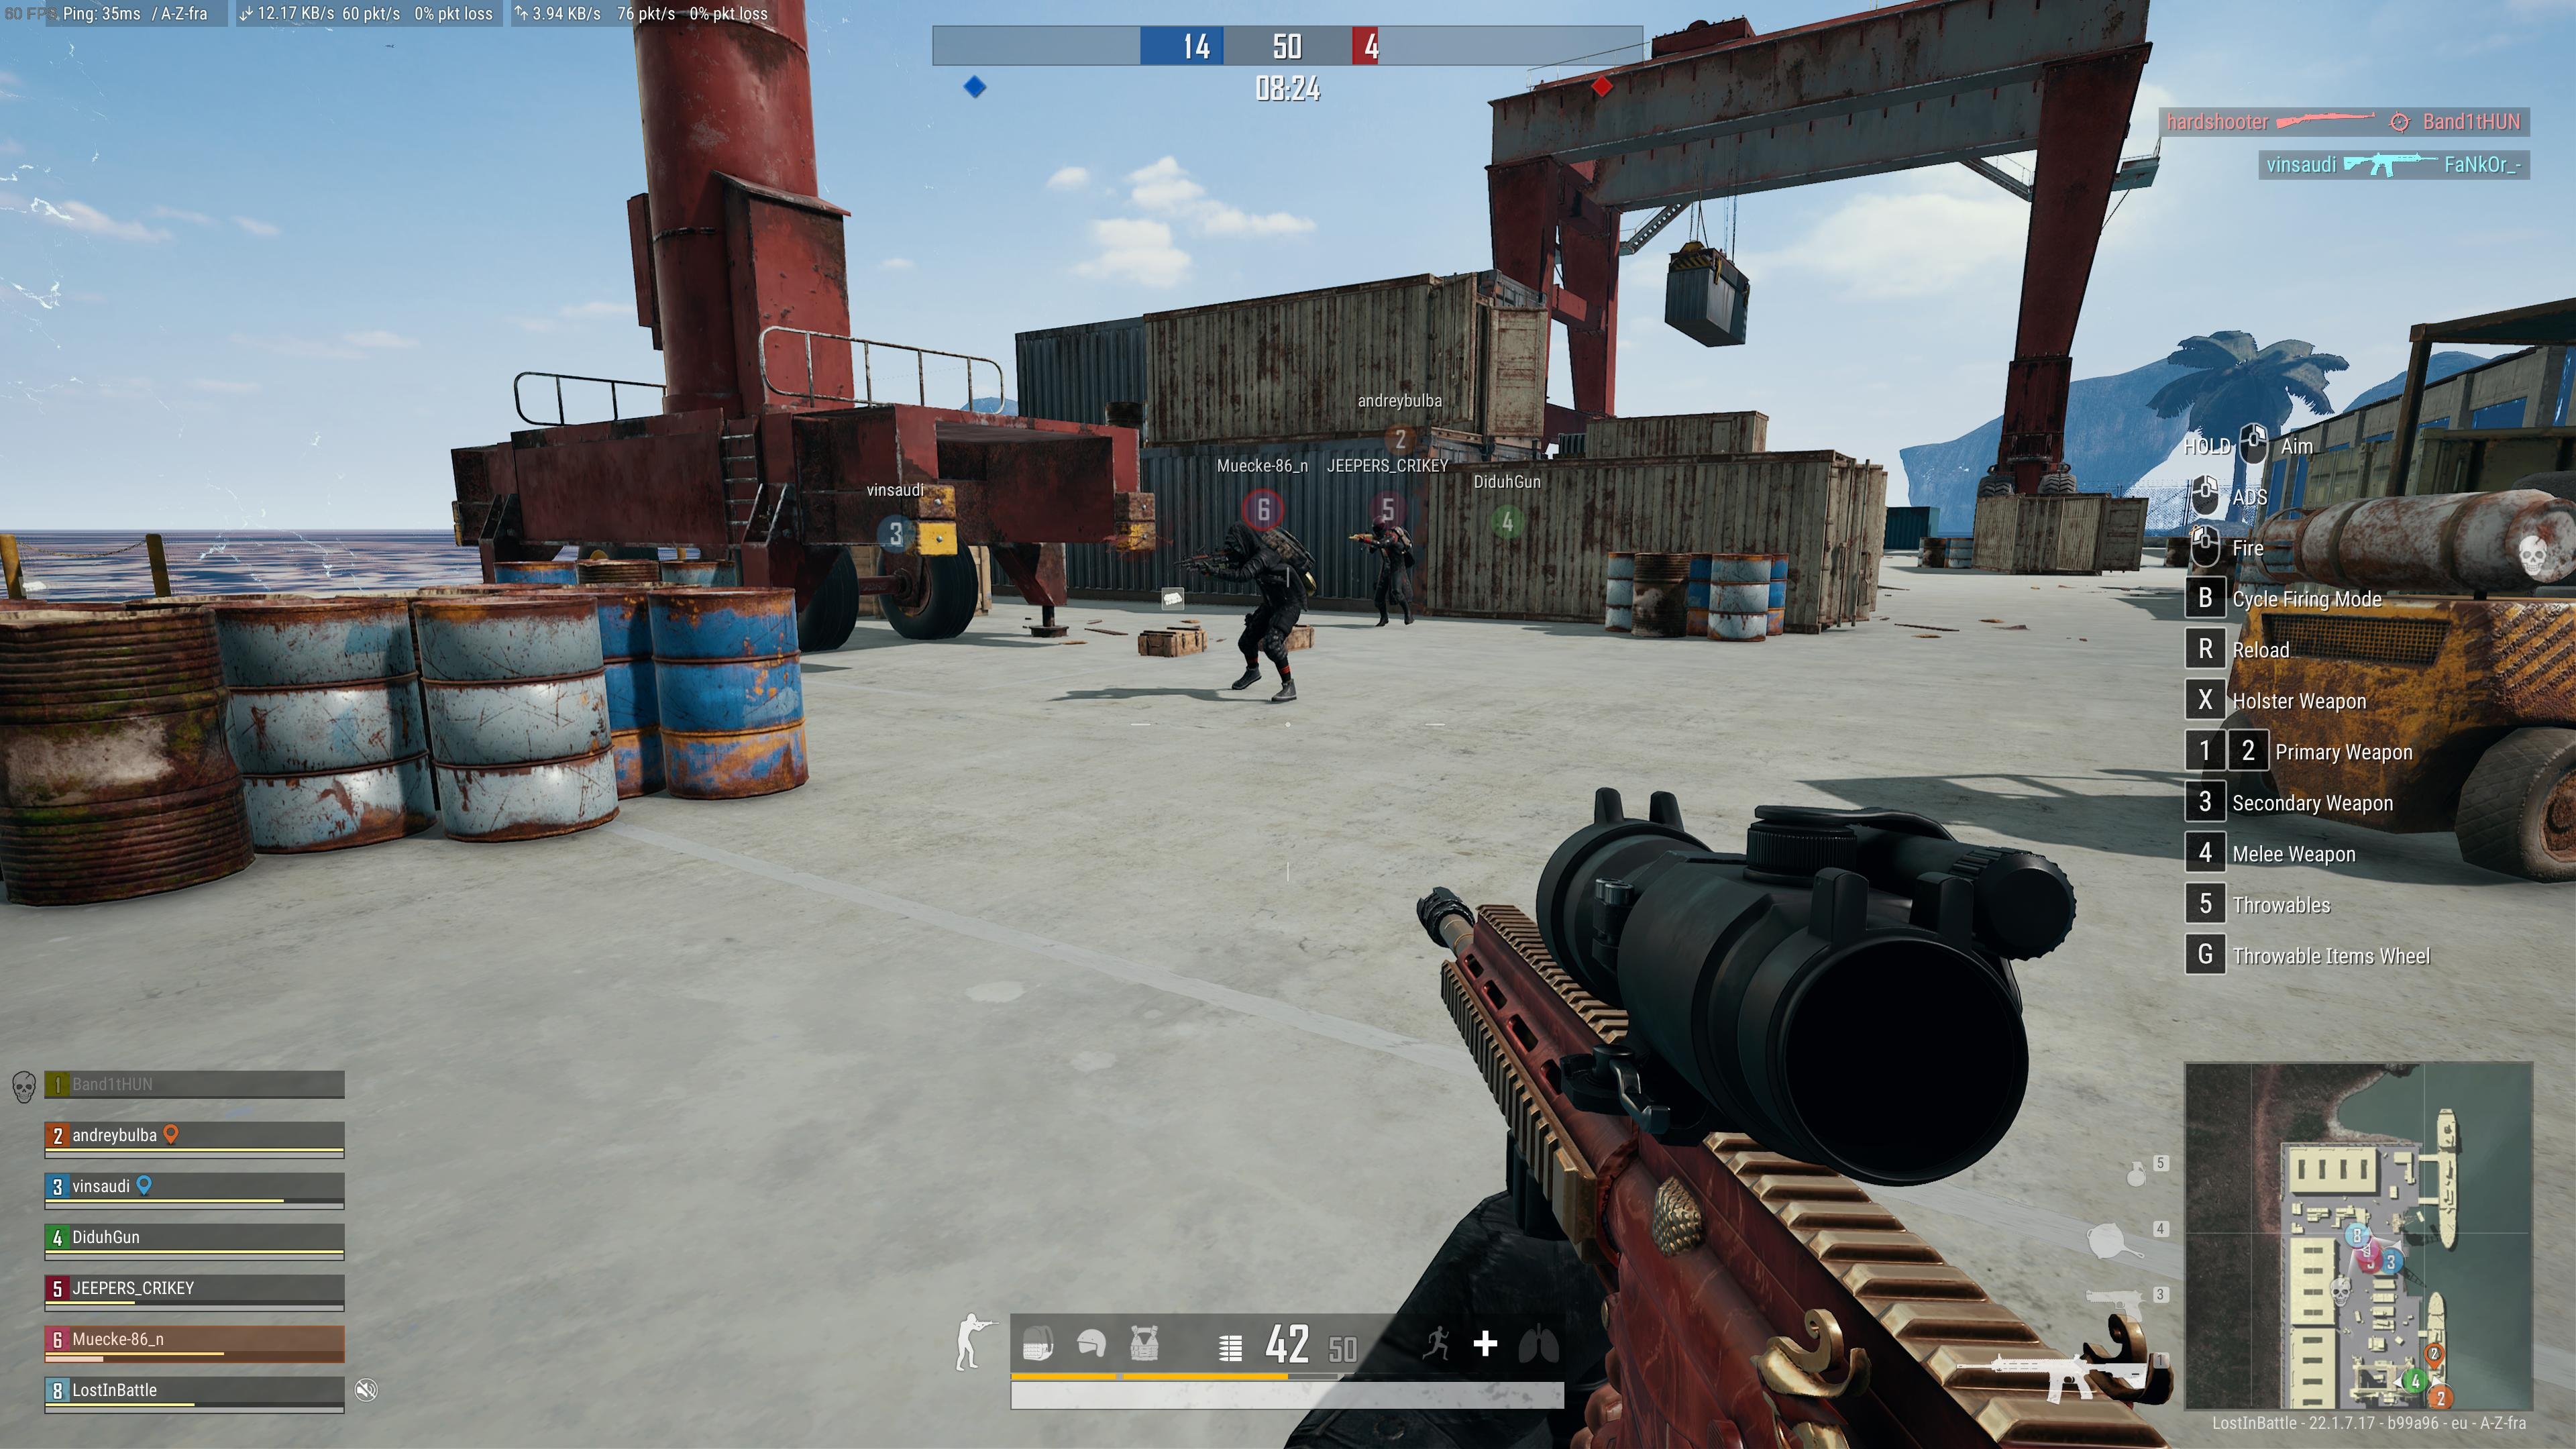friendly: (1194, 502, 1316, 702), (1357, 506, 1415, 628)
